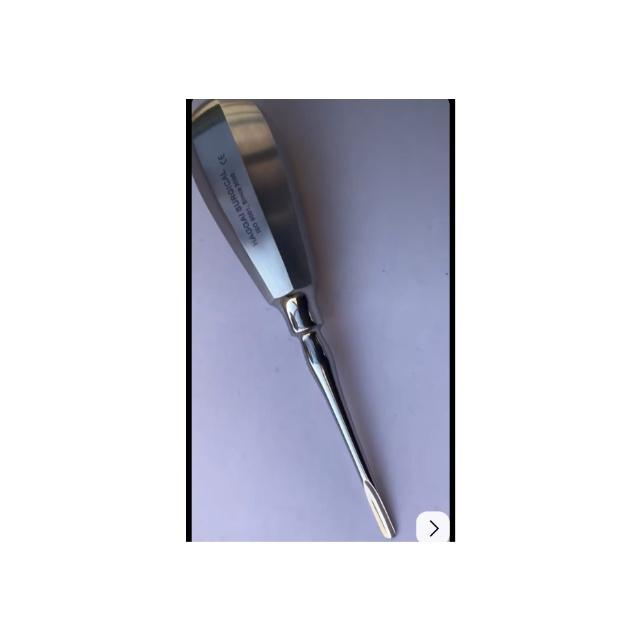botador: (190, 100, 397, 542)
